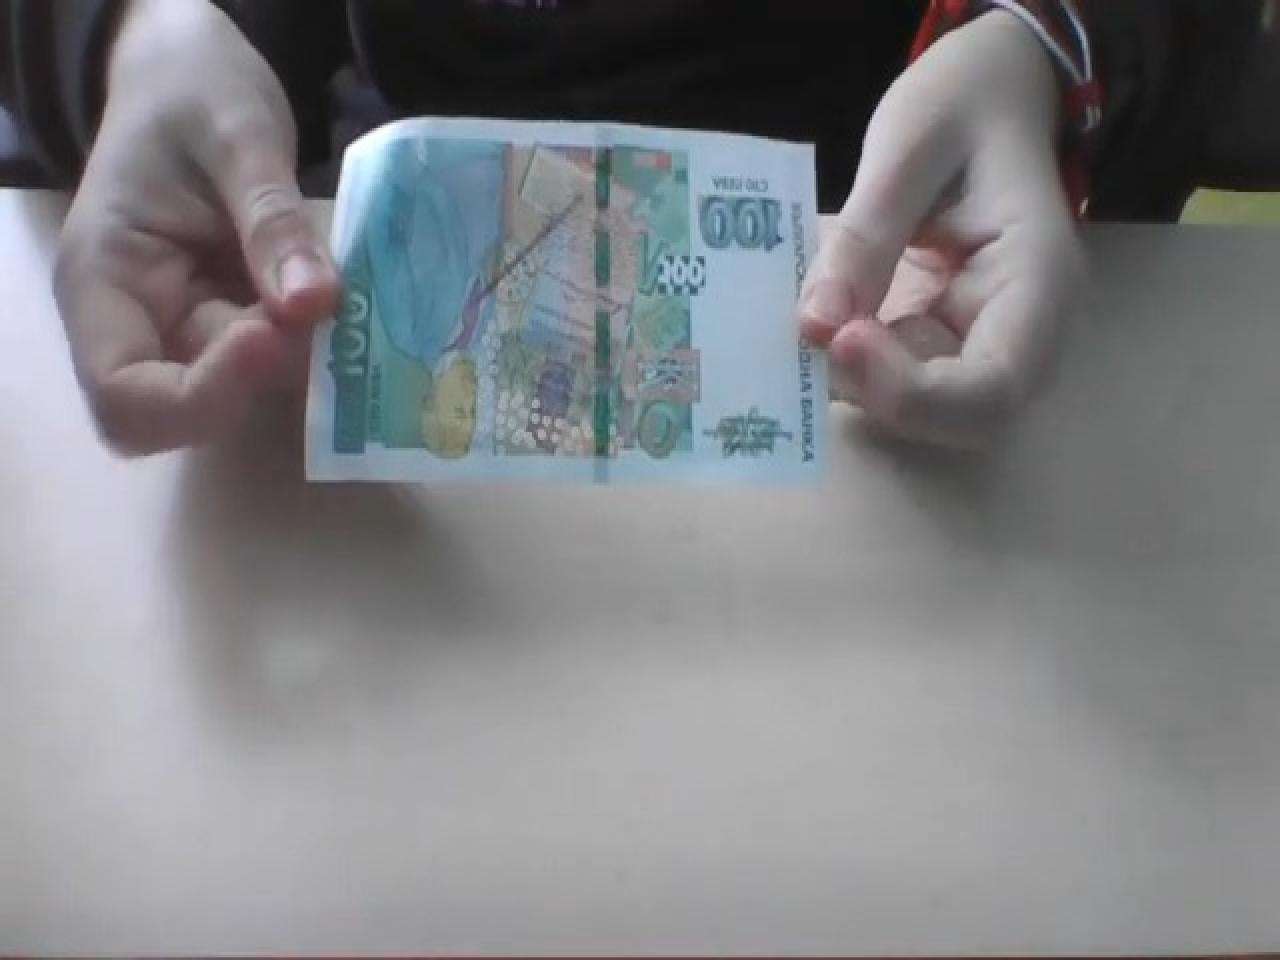100leva: (302, 112, 828, 491), (696, 190, 786, 253)
